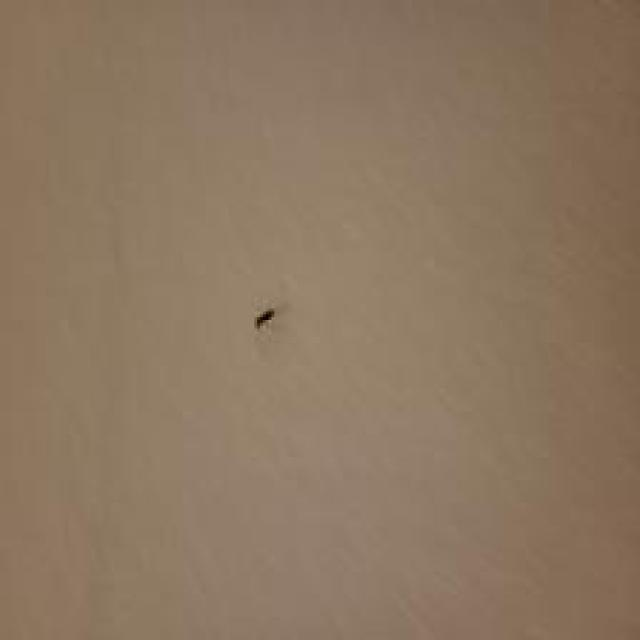Culex: (253, 307, 276, 330)
